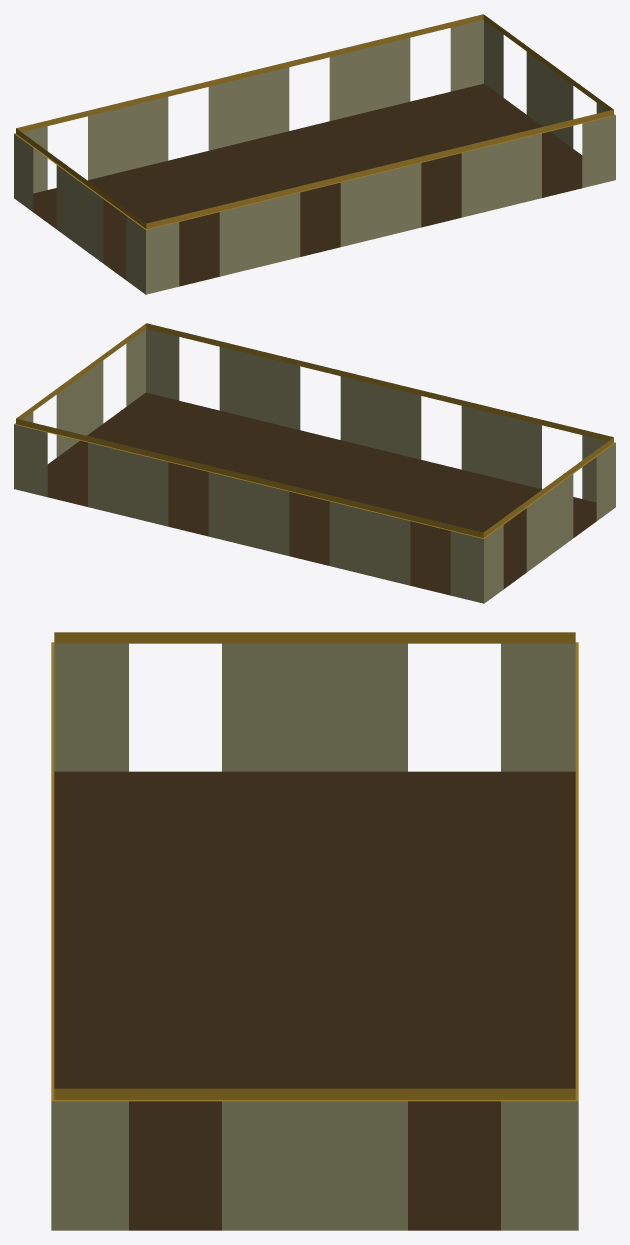
File: 6x12Room.fbx
3 views of the same model, one above another, from view 1: azimuth 30°, elevation 25°; view 2: azimuth 150°, elevation 25°; view 3: azimuth 270°, elevation 25° (orthographic). The views are drawn at different scales.
Parts seen in each view (by area): view 1: 6x12Room; view 2: 6x12Room; view 3: 6x12Room.
Boxes of the visible parts, x1,y1,x2,y2 form: 6x12Room: (14,14,615,294); 6x12Room: (14,323,615,603); 6x12Room: (51,632,578,1230).
Bounding box in the file's own units: 3500 × 500 × 1700.
